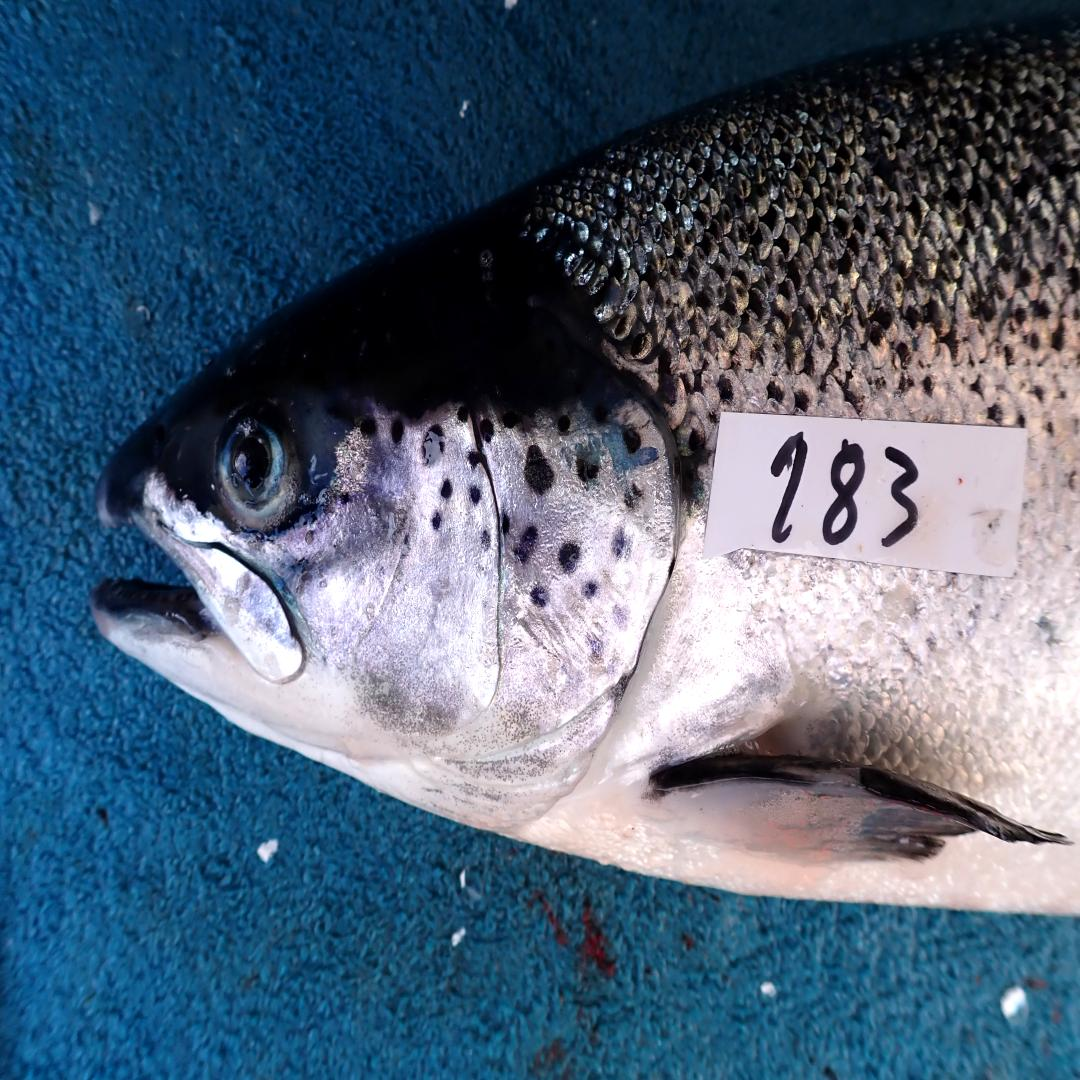roi: (300, 400, 677, 832)
